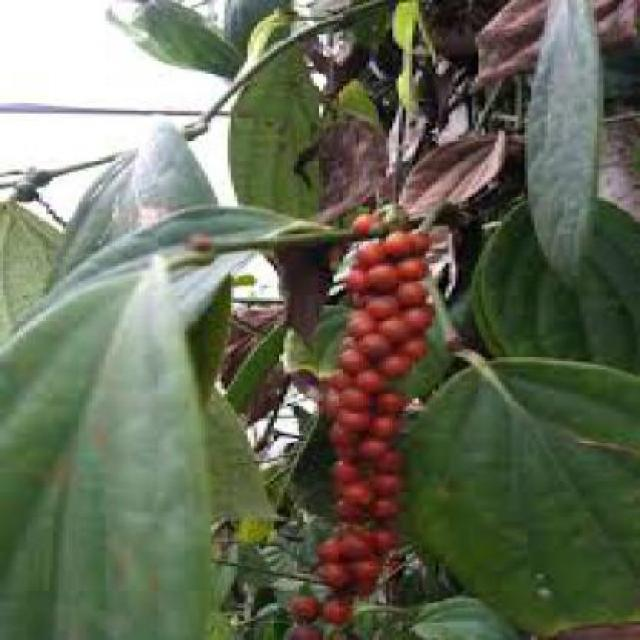RIPE: (296, 202, 442, 633)
